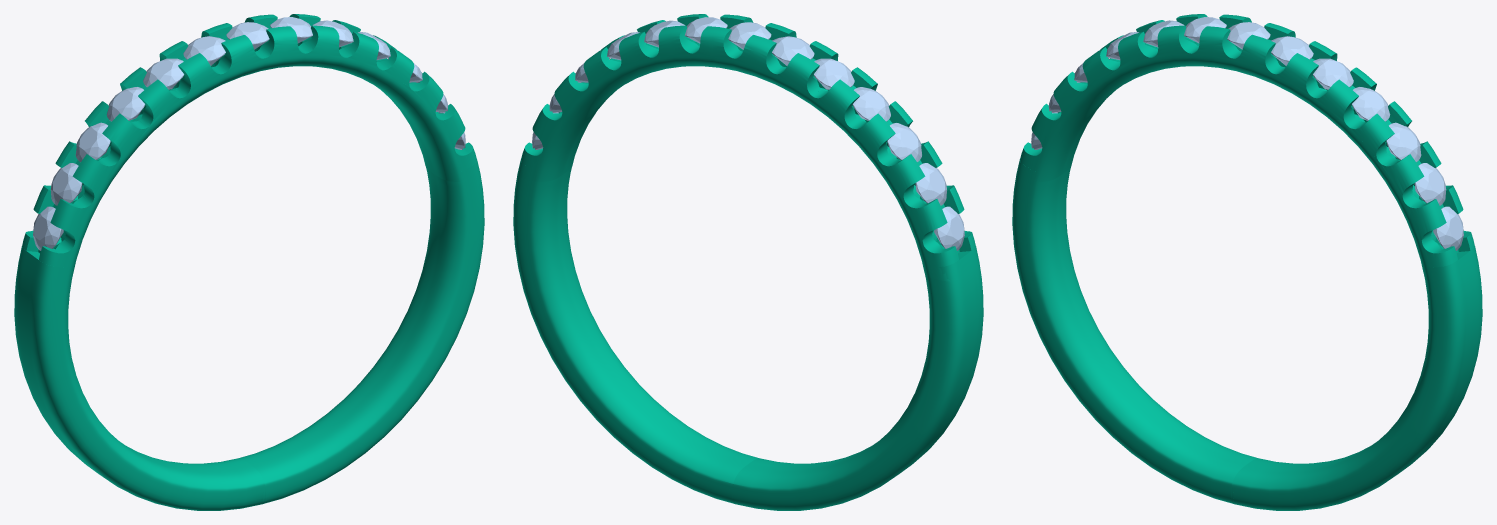
3 views of the same model, side by side, from view 1: azimuth 30°, elevation 25°; view 2: azimuth 150°, elevation 25°; view 3: azimuth 330°, elevation 25° (orthographic).
Visible parts, largest first — view 1: PART0001 (×3), Diamond_Round (×8); view 2: PART0001 (×3), Diamond_Round (×8); view 3: PART0001 (×3), Diamond_Round (×8).
Boxes of the visible parts, <box> form: PART0001 (×3): <box>14,14,484,510</box>; Diamond_Round (×8): <box>33,17,312,250</box>; PART0001 (×3): <box>513,14,983,510</box>; Diamond_Round (×8): <box>684,17,964,250</box>; PART0001 (×3): <box>1012,14,1482,510</box>; Diamond_Round (×8): <box>1184,17,1463,250</box>.
Bounding box in the file's own units: 2.82 × 2.82 × 0.3373.
